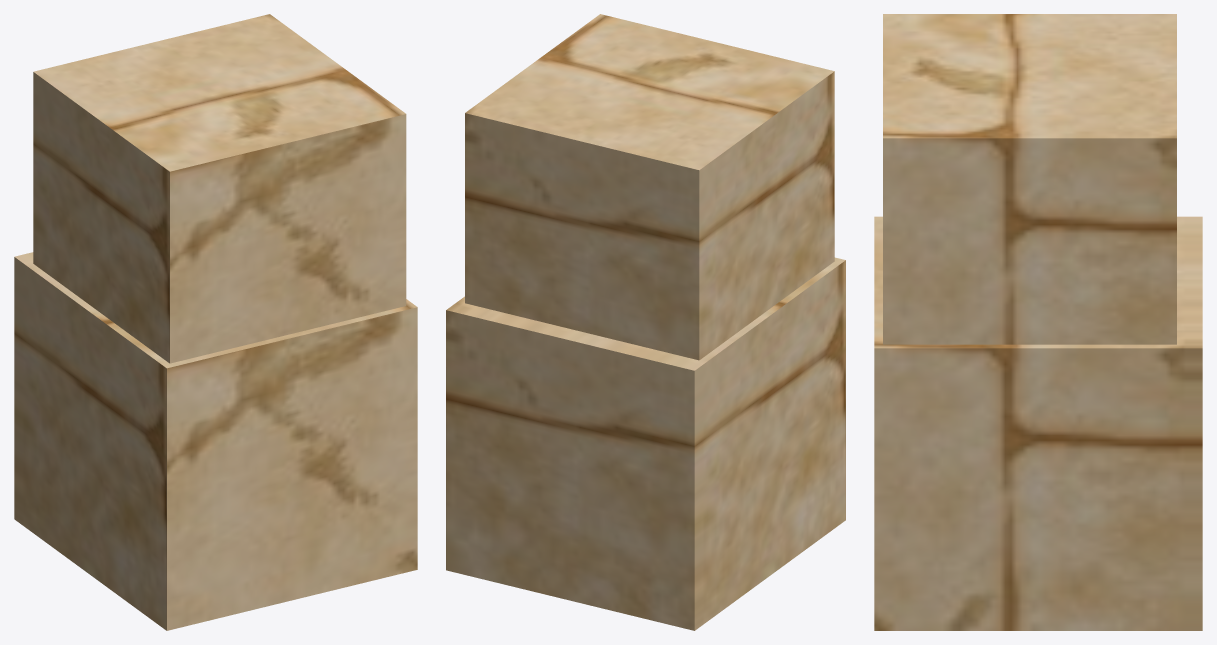
File: basehosue.fbx
The picture shows the model from 3 angles, left to right: view 1: azimuth 30°, elevation 25°; view 2: azimuth 150°, elevation 25°; view 3: azimuth 270°, elevation 25°; orthographic projection. The views are drawn at different scales.
Visible parts, largest first — view 1: BaseHouse, Cube.012; view 2: BaseHouse, Cube.012; view 3: BaseHouse, Cube.012.
Boxes of the visible parts, bbox=[...] form: BaseHouse: bbox=[14, 252, 417, 630]; Cube.012: bbox=[33, 14, 406, 363]; BaseHouse: bbox=[446, 257, 845, 630]; Cube.012: bbox=[465, 14, 834, 360]; BaseHouse: bbox=[874, 216, 1202, 630]; Cube.012: bbox=[883, 14, 1176, 344].
Bounding box in the file's own units: 257 × 444 × 271.
